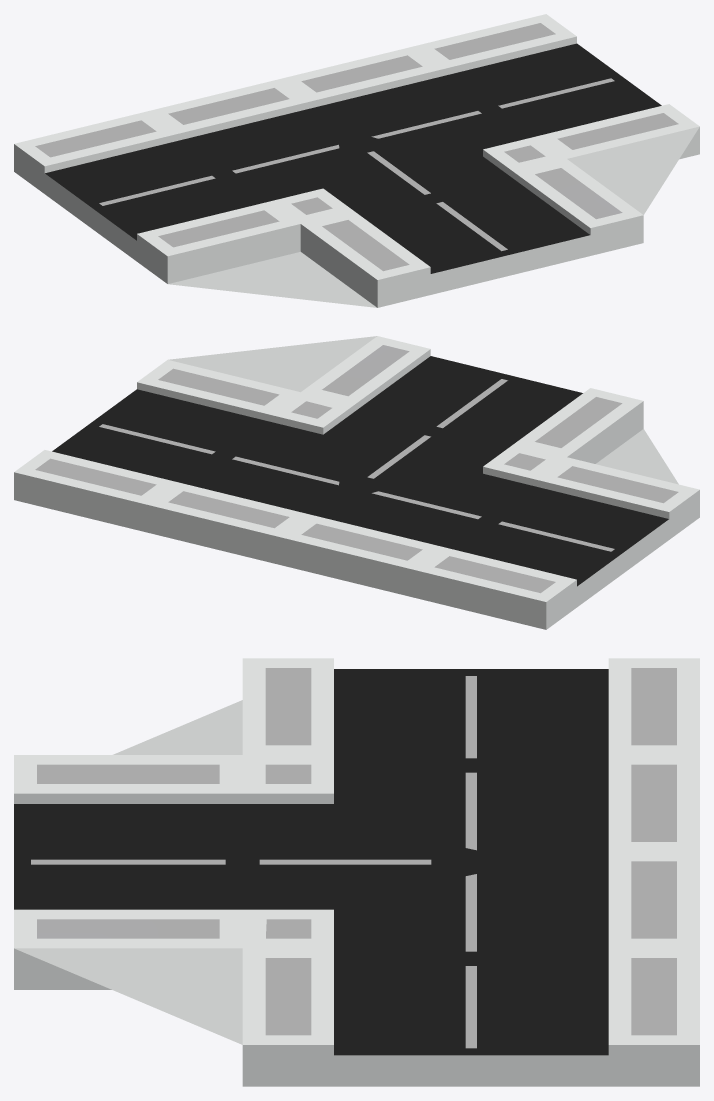
The model's file is duong nga 3.fbx.
3 renders of one model, top to bottom at view 1: azimuth 30°, elevation 25°; view 2: azimuth 150°, elevation 25°; view 3: azimuth 270°, elevation 25°, orthographic. The views are drawn at different scales.
Visible parts, largest first — view 1: duong_nga_3; view 2: duong_nga_3; view 3: duong_nga_3.
Boxes of the visible parts, box(x1,y1,x2,y2) form: duong_nga_3: box(14, 14, 699, 307); duong_nga_3: box(14, 336, 699, 629); duong_nga_3: box(14, 658, 699, 1086).
Bounding box in the file's own units: 40 × 2 × 30.
Materials: 1 (1 with a texture image).
